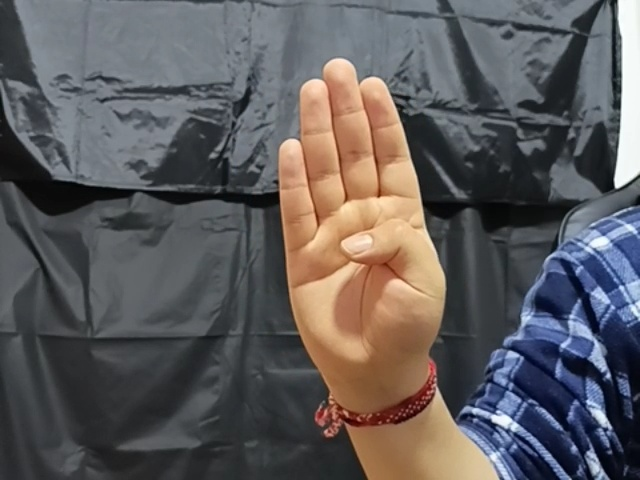B: (274, 55, 449, 385)
